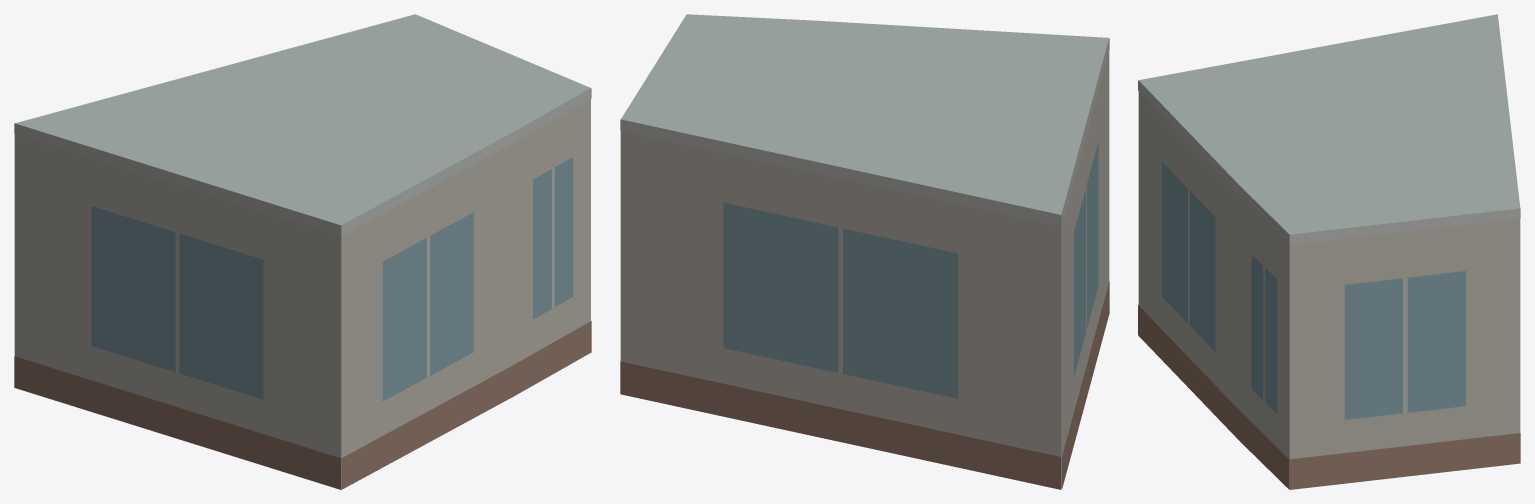
The model's file is survey-upis-32766904.glb.
The picture shows the model from 3 angles, left to right: view 1: azimuth 30°, elevation 25°; view 2: azimuth 150°, elevation 25°; view 3: azimuth 270°, elevation 25°; orthographic projection. The views are drawn at different scales.
Parts seen in each view (by area): view 1: survey-upis-32766904.tmp; view 2: survey-upis-32766904.tmp; view 3: survey-upis-32766904.tmp.
Part boxes in pixels (bbox=[...]): survey-upis-32766904.tmp: bbox=[14, 14, 591, 489]; survey-upis-32766904.tmp: bbox=[620, 14, 1109, 489]; survey-upis-32766904.tmp: bbox=[1138, 14, 1520, 489].
Bounding box in the file's own units: 5.67 × 3.05 × 4.15.
